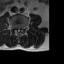CCS_normal: (18, 26, 19, 33)
LFS_severe_stenosis: (21, 25, 23, 31)
LLS_severe_stenosis: (19, 26, 21, 30)
RFS_severe_stenosis: (14, 25, 16, 30)
RLS_severe_stenosis: (16, 25, 18, 30)
